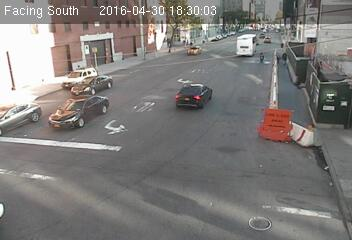pos: (278, 49, 289, 65), (279, 39, 286, 49)
